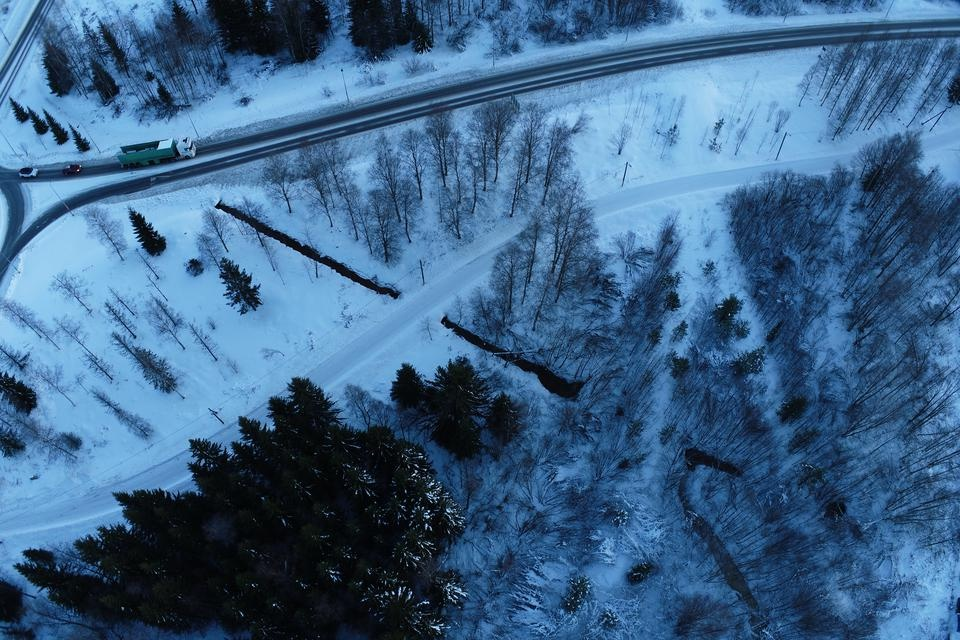roundabout: (0, 116, 83, 300)
